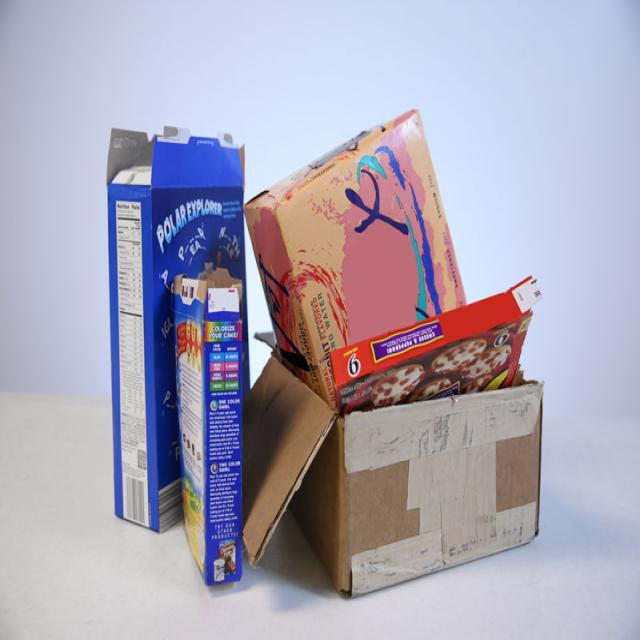cardboard: (252, 110, 536, 389), (253, 362, 541, 596), (108, 117, 248, 585)
